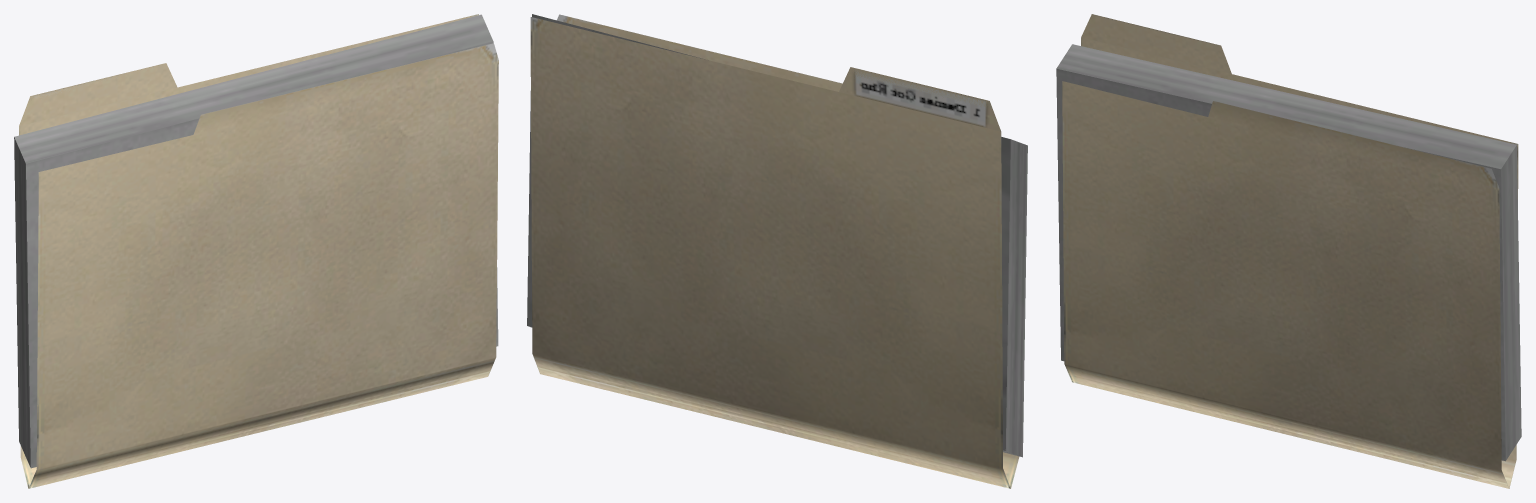
File: p_pent_manila_folder_2_LOD1.obj
3 renders of one model, left to right at view 1: azimuth 30°, elevation 25°; view 2: azimuth 150°, elevation 25°; view 3: azimuth 330°, elevation 25°, orthographic. The views are drawn at different scales.
Visible parts, largest first — view 1: mtl_p_pent_manila_folder, mtl_dest_glo_paper_02; view 2: mtl_p_pent_manila_folder, mtl_dest_glo_paper_02; view 3: mtl_p_pent_manila_folder, mtl_dest_glo_paper_02.
Part boxes in pixels (x1=…): mtl_p_pent_manila_folder: x1=19, y1=14, x2=498, y2=488; mtl_dest_glo_paper_02: x1=14, y1=14, x2=498, y2=468; mtl_p_pent_manila_folder: x1=530, y1=14, x2=1019, y2=488; mtl_dest_glo_paper_02: x1=527, y1=14, x2=1027, y2=457; mtl_p_pent_manila_folder: x1=1062, y1=14, x2=1518, y2=488; mtl_dest_glo_paper_02: x1=1056, y1=44, x2=1521, y2=461.
Bounding box in the file's own units: 40.63 × 31.32 × 3.2.
